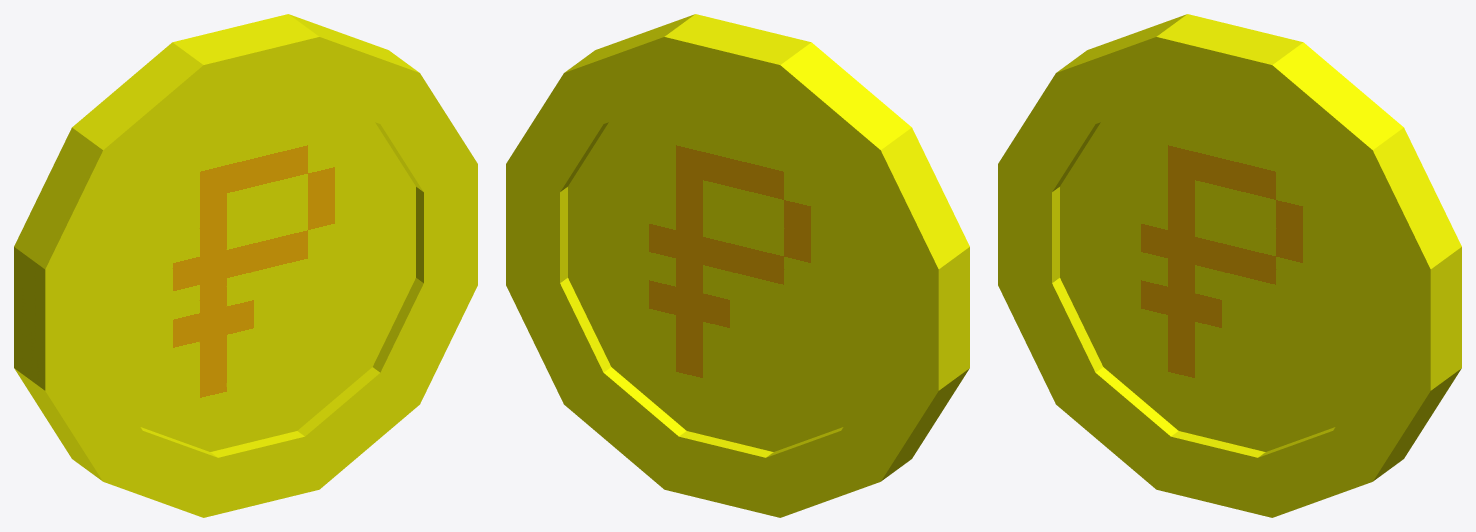
File: rubel.gltf
3 renders of one model, left to right at view 1: azimuth 30°, elevation 25°; view 2: azimuth 150°, elevation 25°; view 3: azimuth 330°, elevation 25°, orthographic.
Parts seen in each view (by area): view 1: cylinder; view 2: cylinder; view 3: cylinder.
Part boxes in pixels (x1,y1,x2,y2): cylinder: (14,14,477,517); cylinder: (506,14,969,517); cylinder: (998,14,1461,517).
Bounding box in the file's own units: 1 × 1 × 0.125.
Materials: 1 (1 with a texture image).
